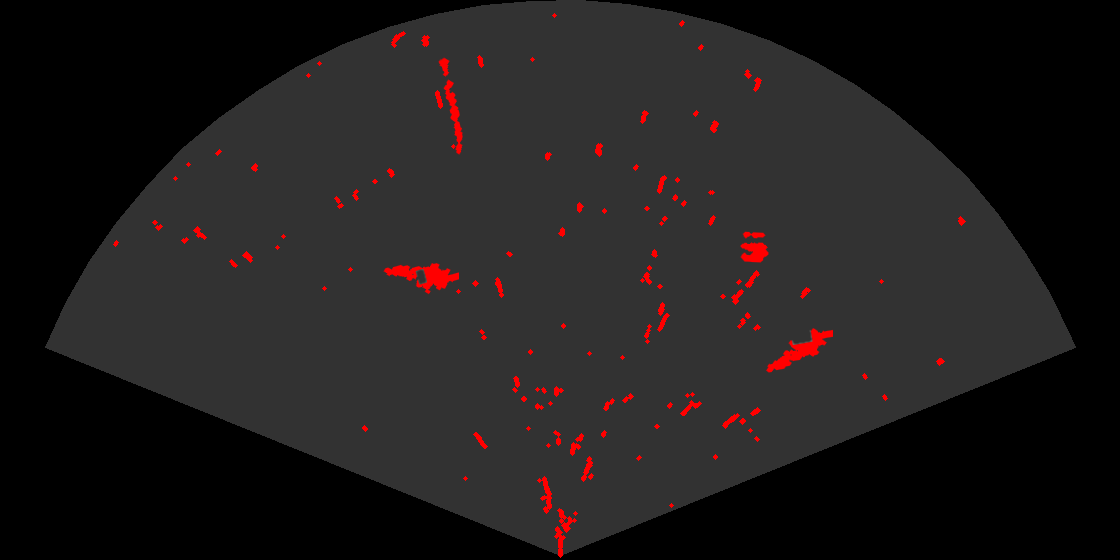ball: (739, 230, 770, 264)
chain: (437, 56, 464, 156)
frogman: (765, 327, 833, 374), (382, 262, 459, 296)
